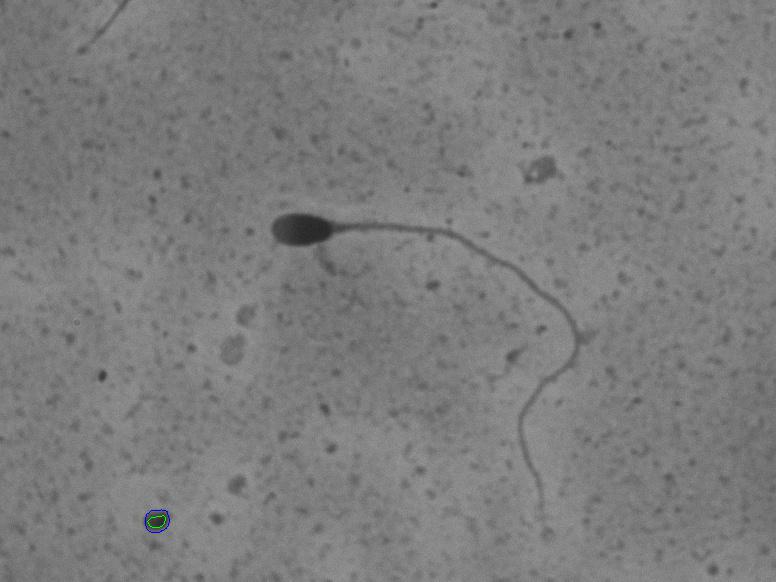Normal: (241, 184, 637, 517)
